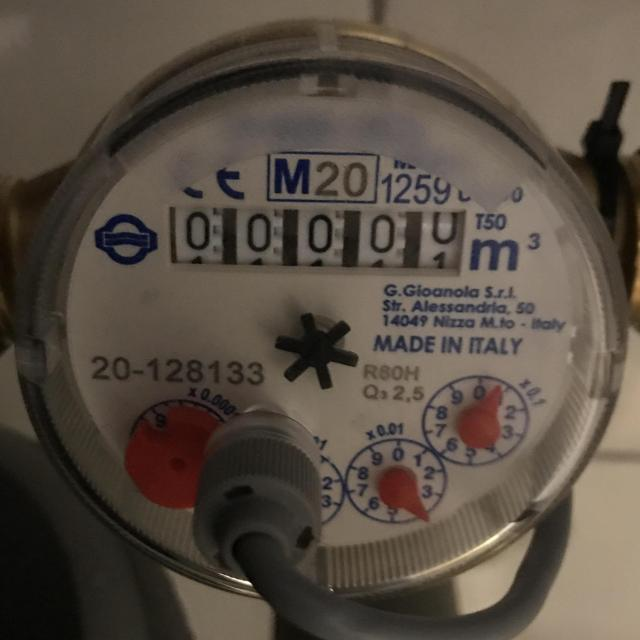gaz_meter: (62, 76, 596, 553)
indication: (172, 208, 467, 273)
